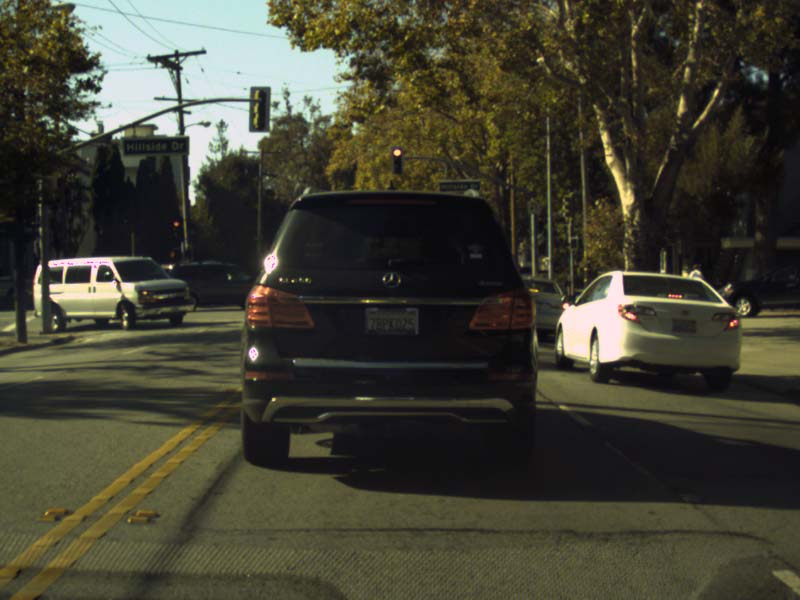Red: (391, 146, 403, 173), (172, 219, 180, 238)
